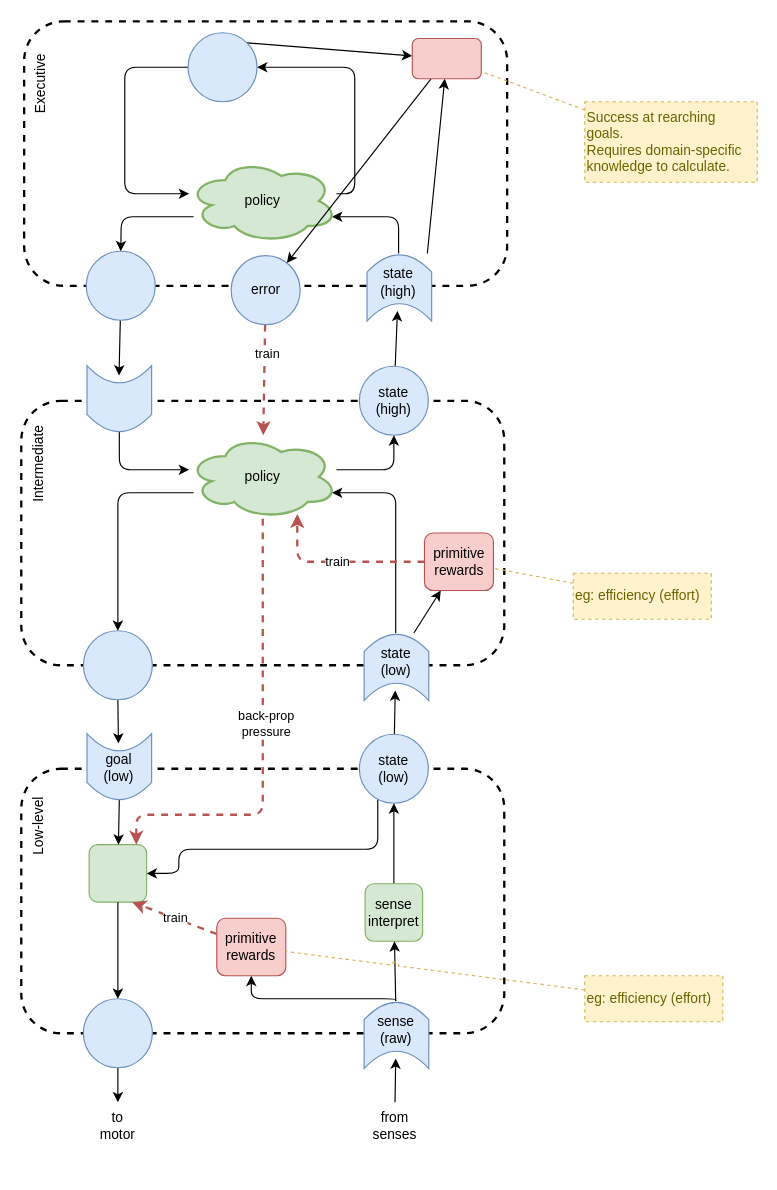
Image size: 777x1190. Some labels were removed from this diagram. Here are the shapes that lost their labels. From the top down, the box of each, then its label:
(187, 32, 257, 102): goal (high)
(411, 37, 481, 79): critique
(85, 250, 155, 320): action (high)
(86, 364, 152, 432): goal (interm.)
(82, 630, 152, 700): action
(88, 844, 147, 902): MC policy
(82, 998, 152, 1068): action (raw)
